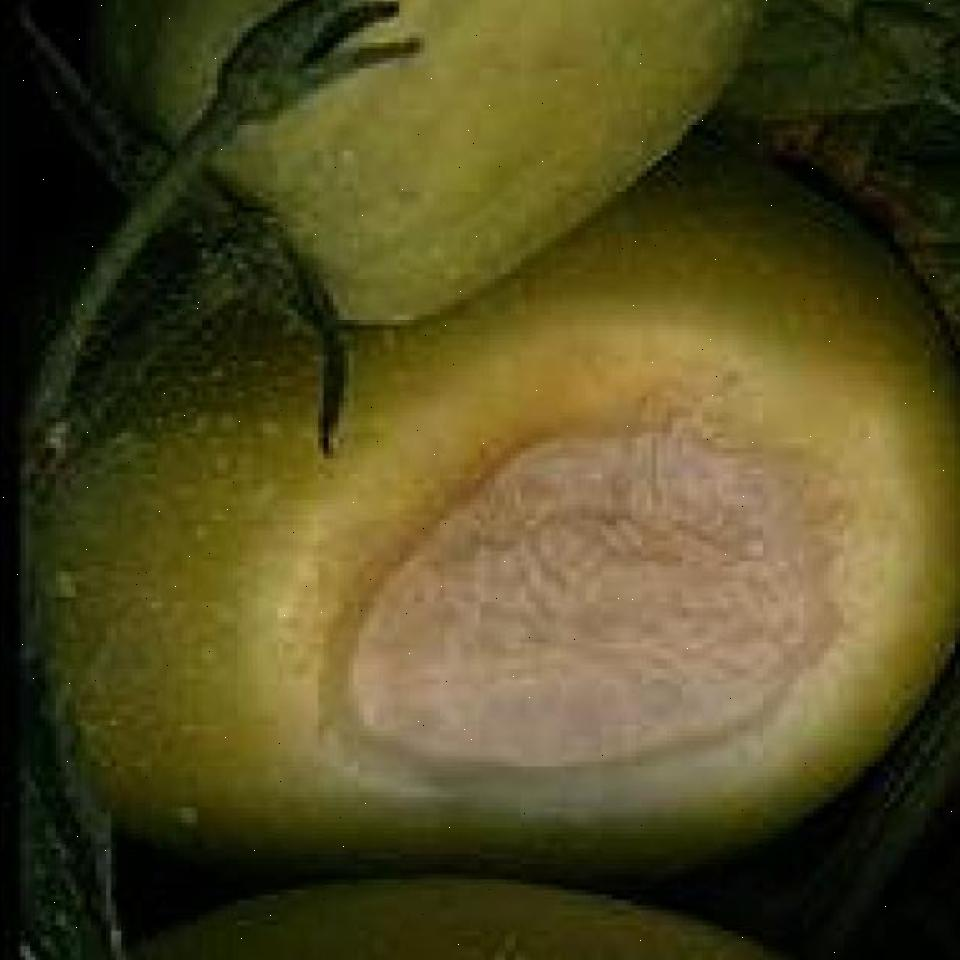Sunscald: (304, 378, 906, 784)
